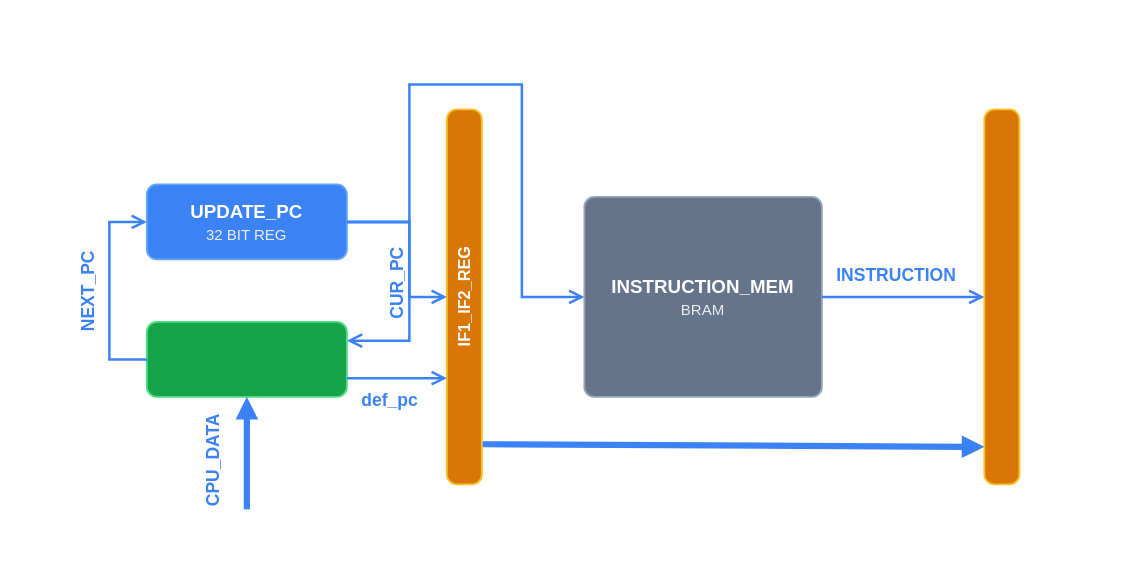
Image size: 1130x580. Some labels were removed from this diagram. Here are the shapes that lost their labels. From the top down, the box of each, then its label:
(983, 108, 1020, 485): IF_ID_REG
(145, 320, 347, 397): NEXT_PC 4:1 MUX
